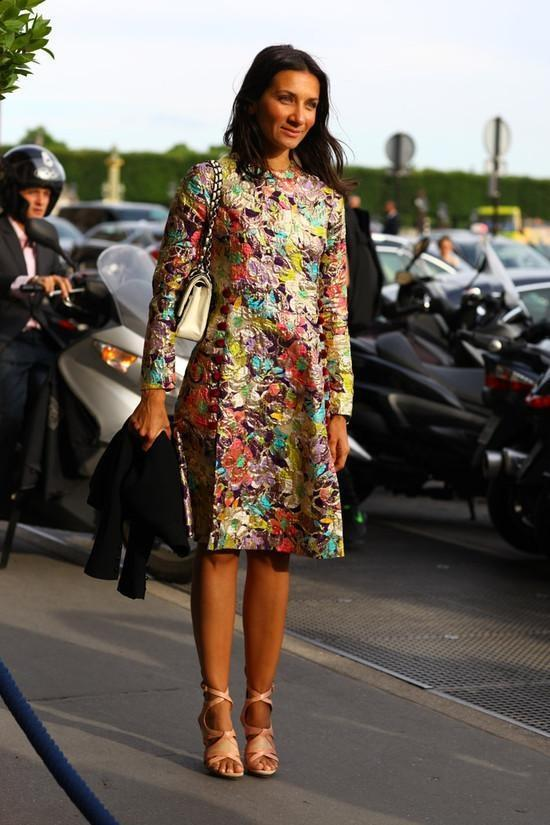dress: (143, 155, 356, 557)
